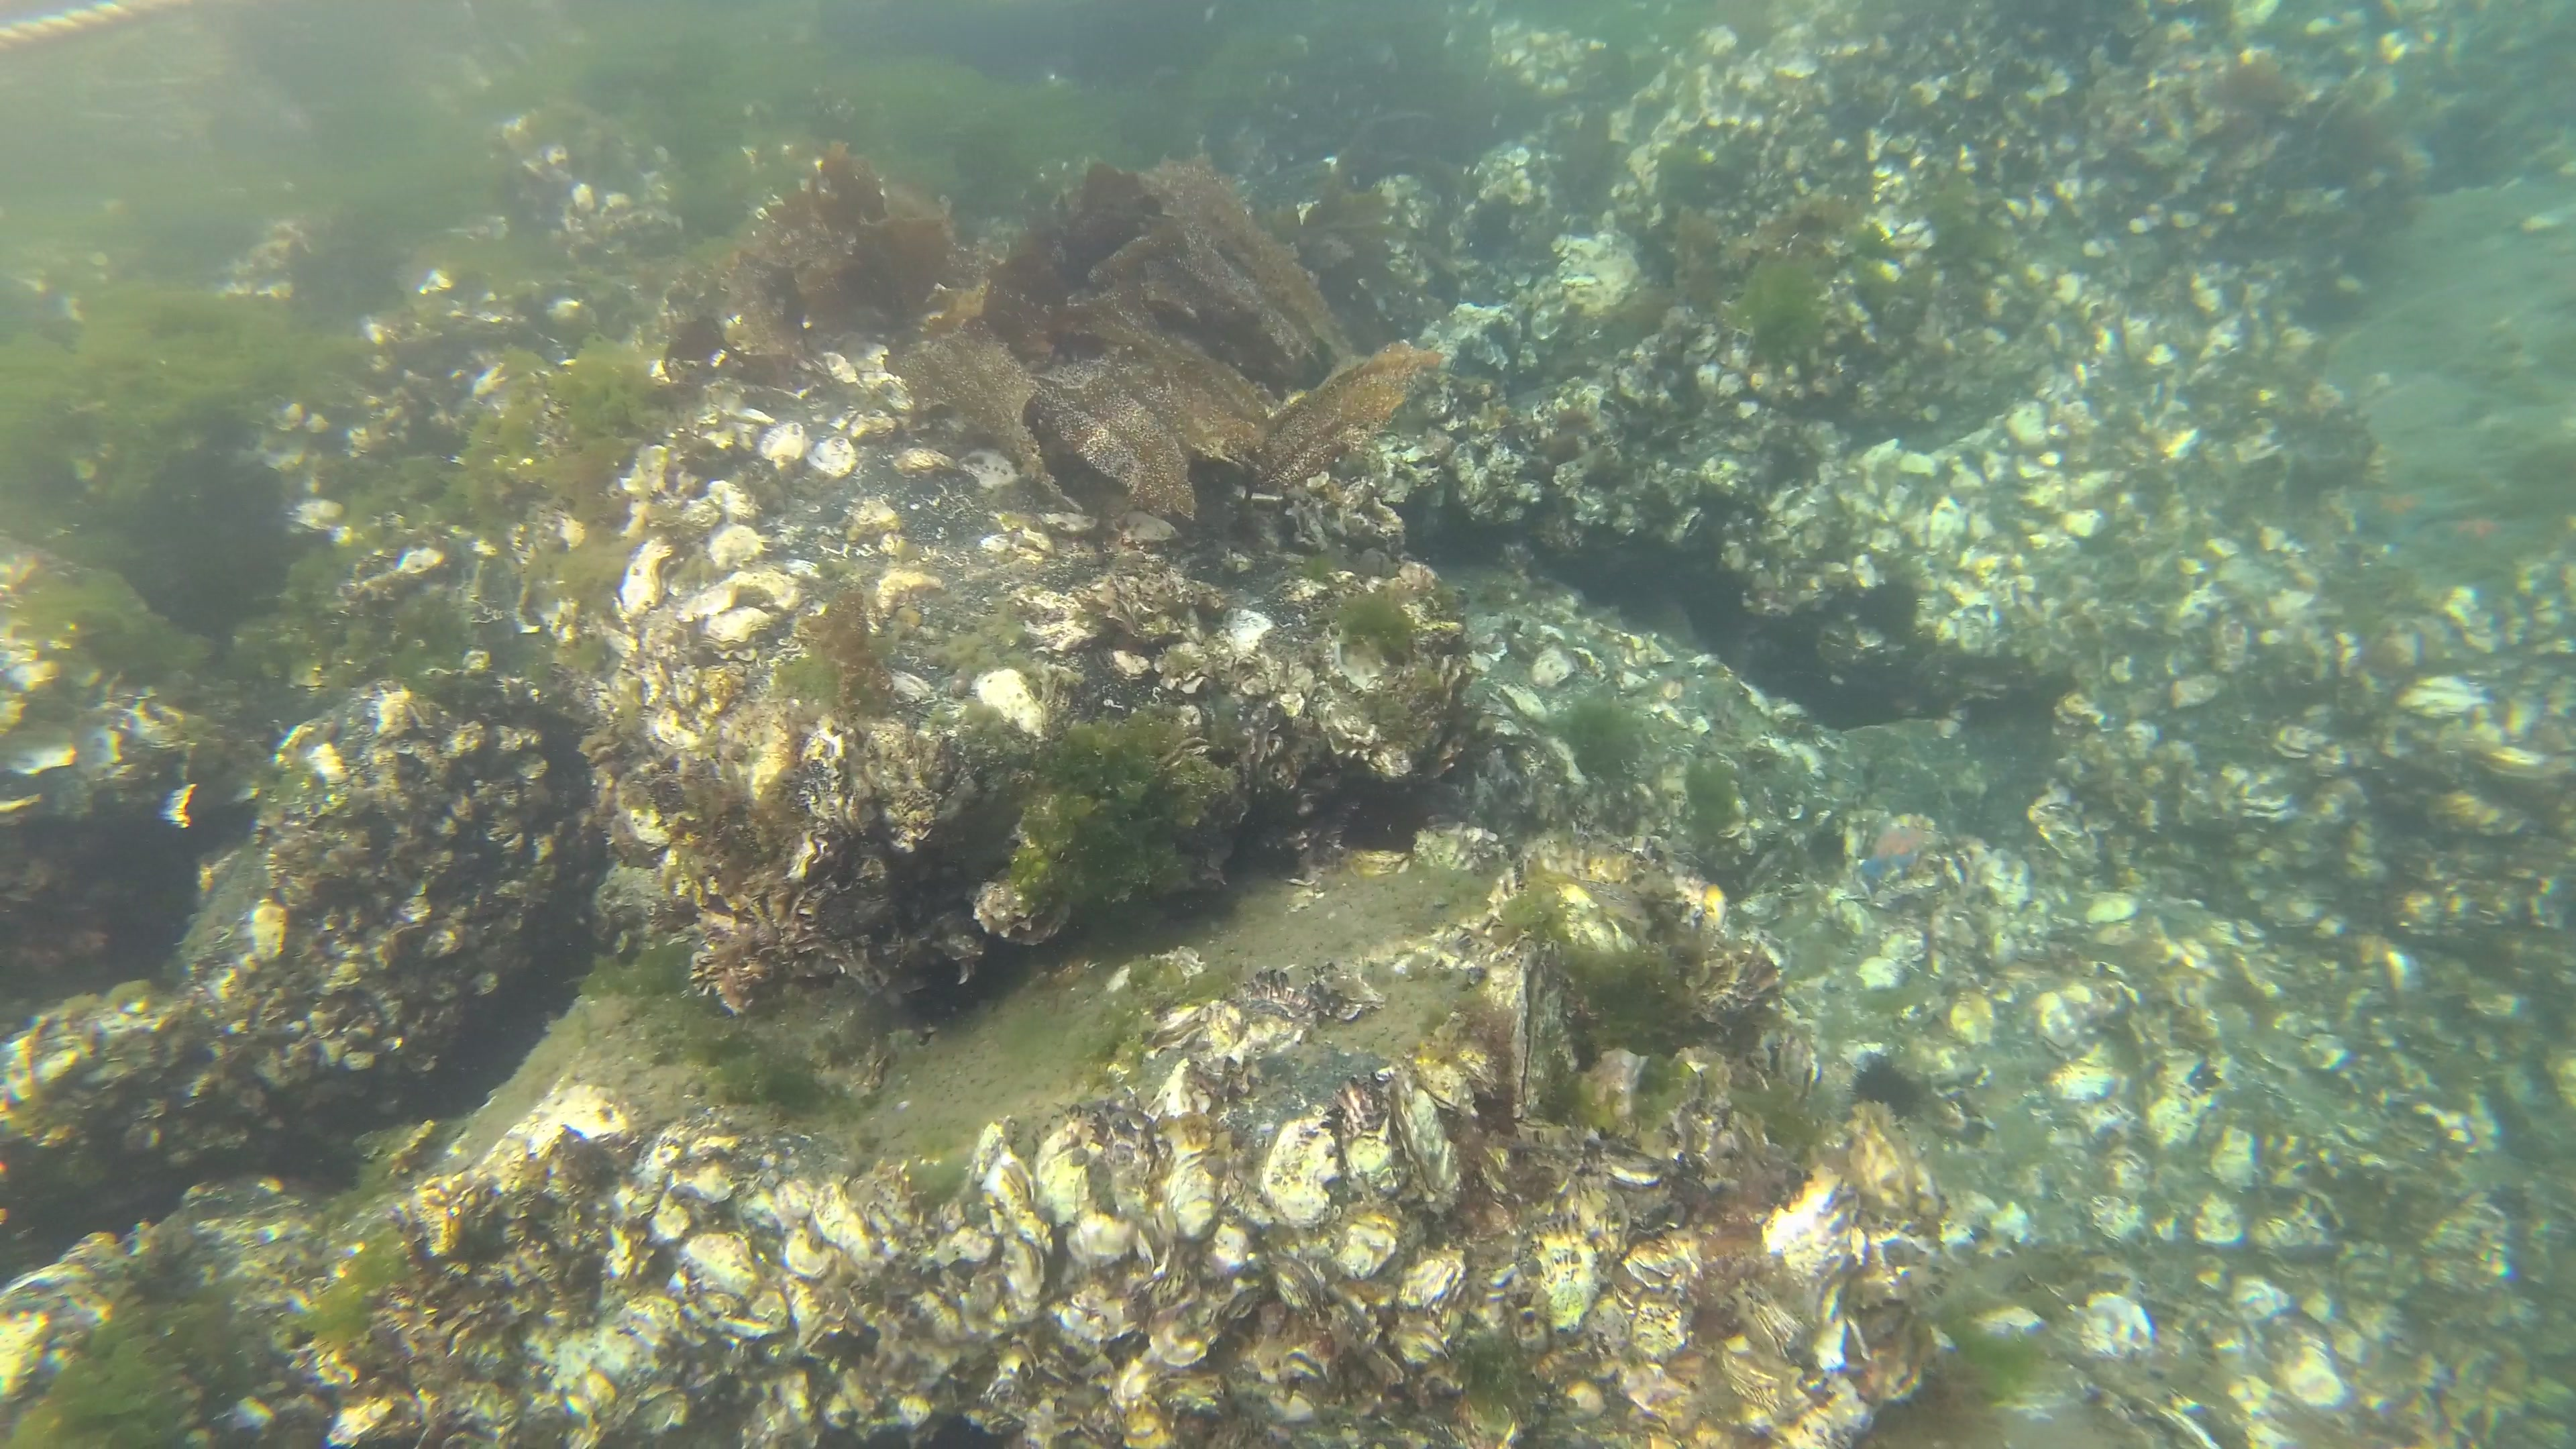echinus: (1852, 1047, 1927, 1131), (1859, 570, 1921, 642)
starfish: (2350, 474, 2475, 547), (2427, 511, 2528, 566), (1852, 819, 1932, 885)
